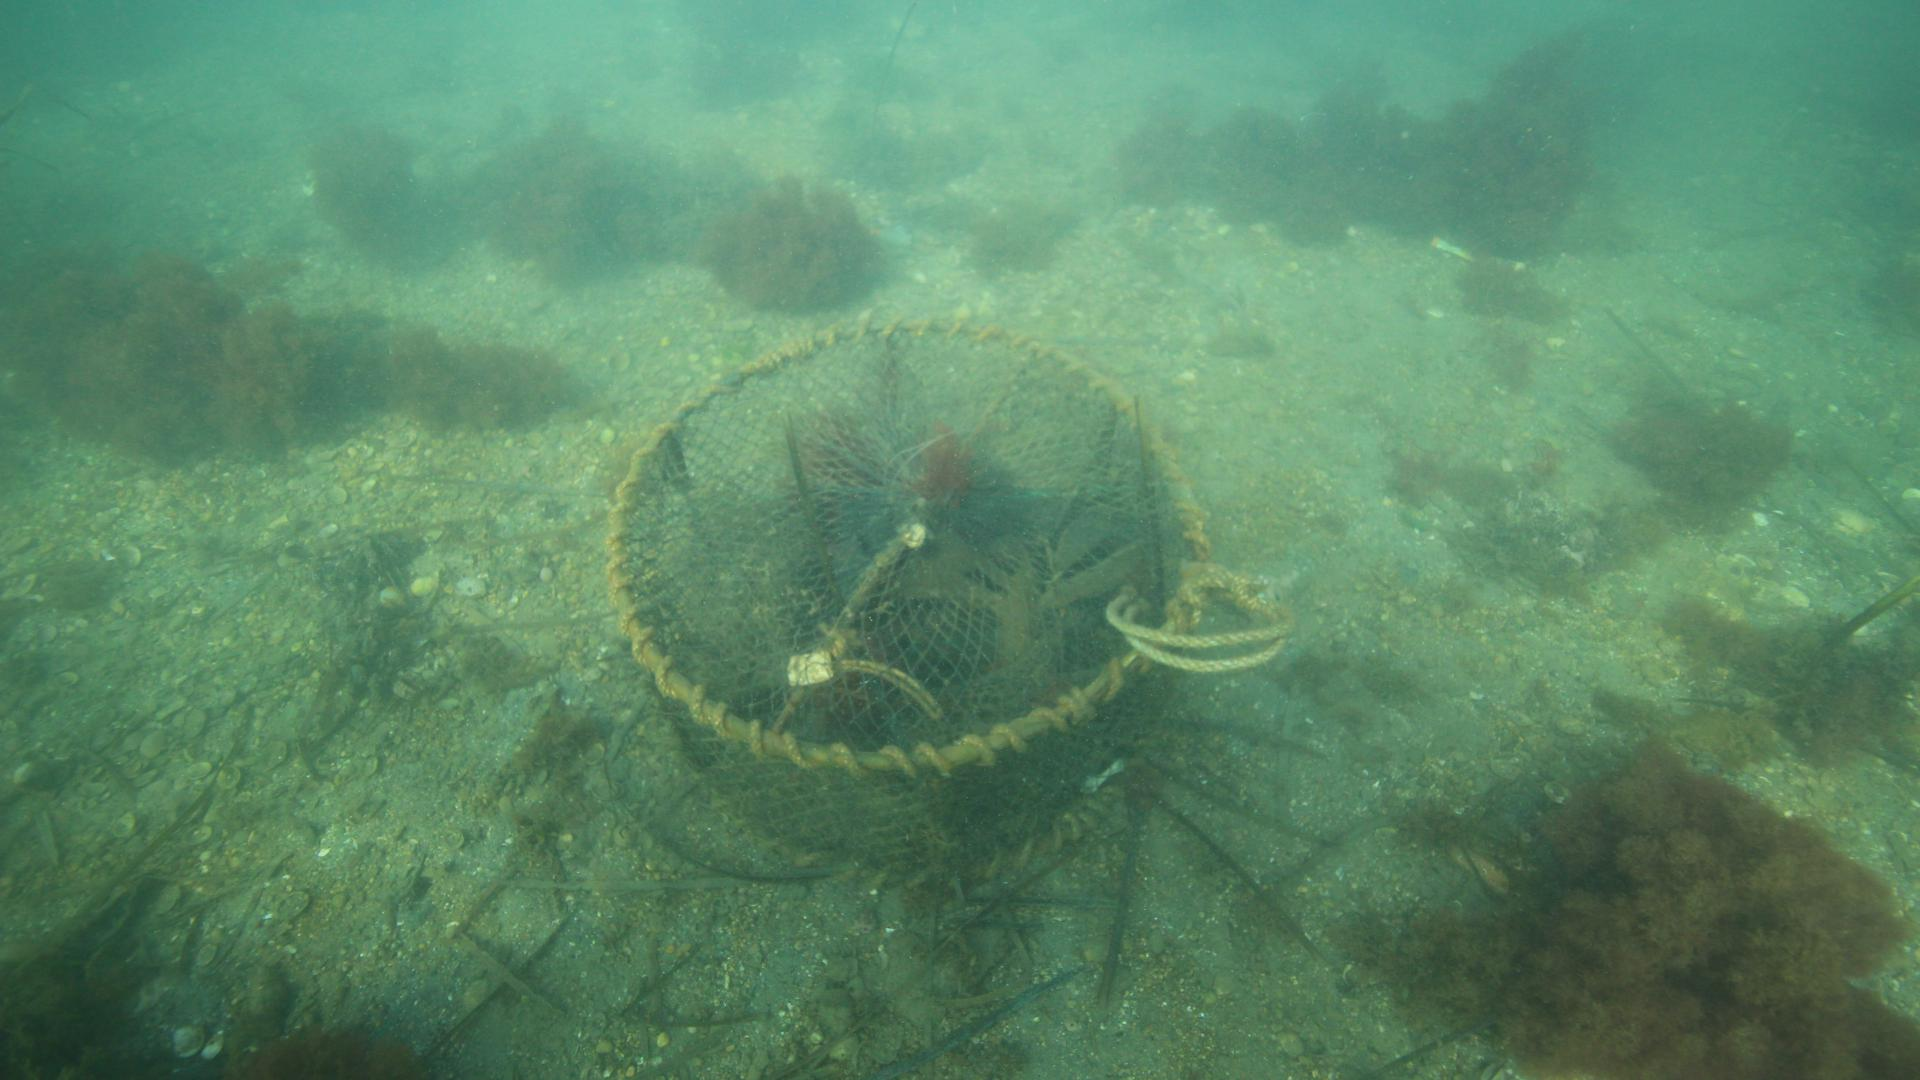bundle of ropes: (1106, 578, 1296, 673)
circular fish trap: (603, 318, 1213, 889)
